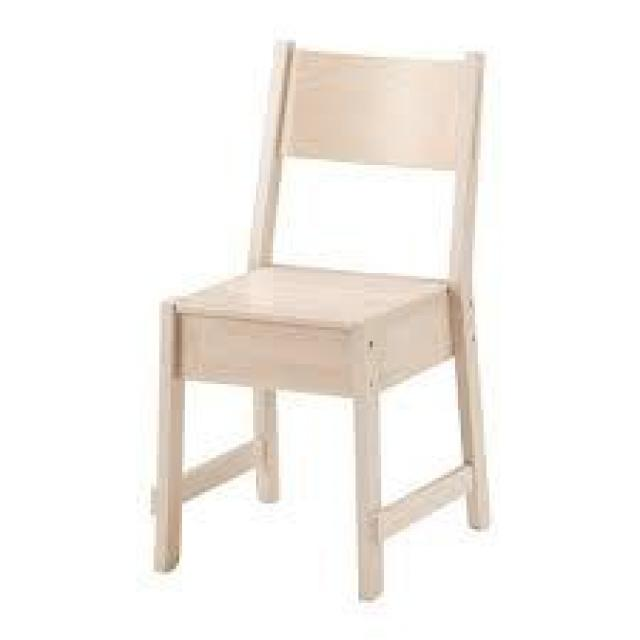chair: (126, 26, 524, 594)
